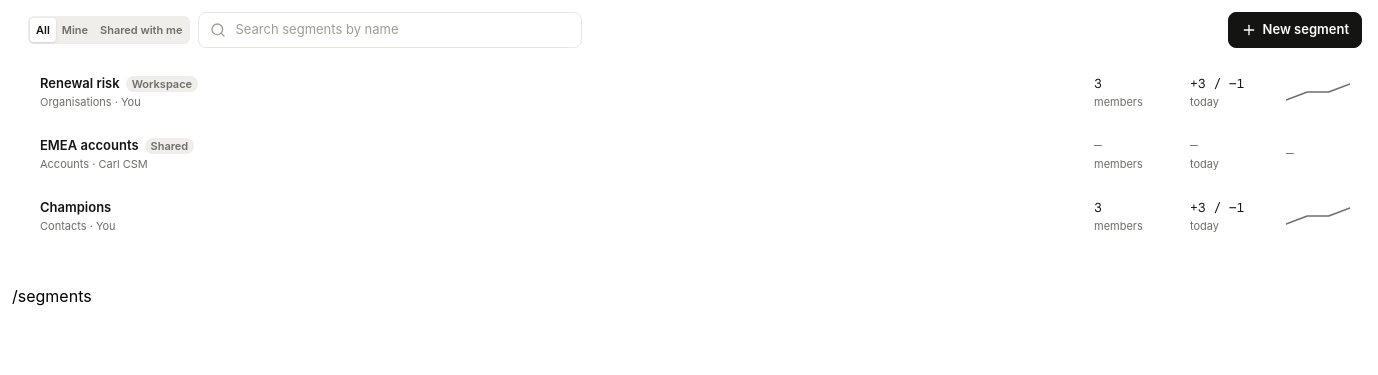
/segments (spec §3) › keeps the last list when a new scope fails, with Try again that asks again
The width and height of the screenshot is (1378, 375).
Click the button "Mine".
click(75, 30)  # box top-left (56, 18), bottom-right (94, 42)
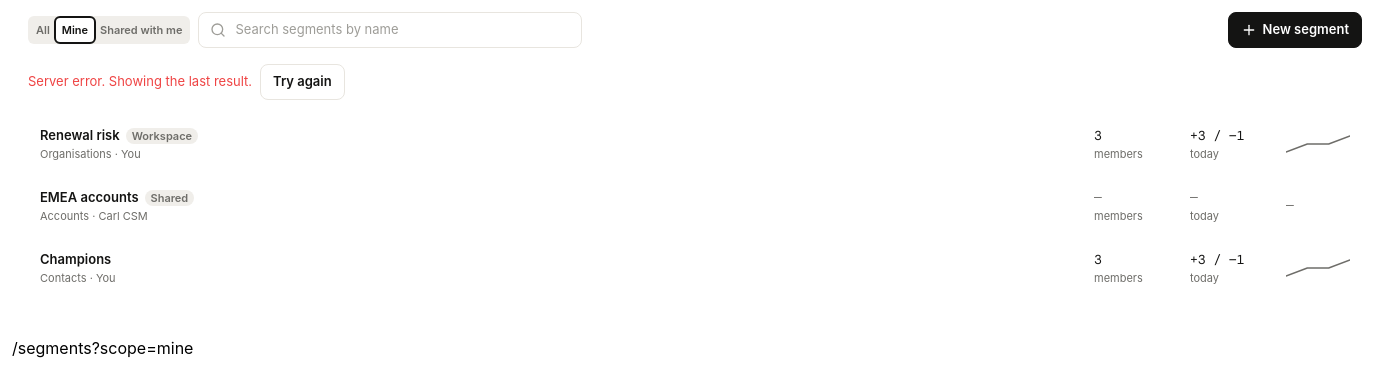
Check: the message shows "Server error. Showing the last result.", box top-left (28, 64), bottom-right (345, 100)
Click the button "Try again".
click(302, 82)  # box top-left (260, 64), bottom-right (345, 100)
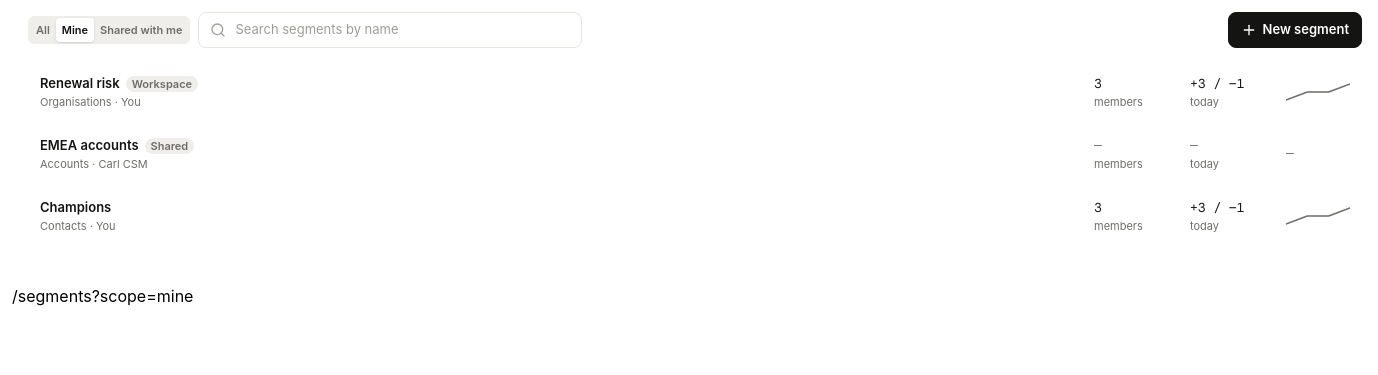
Check: the message "Server error. Showing the last result. Try again" is gone
